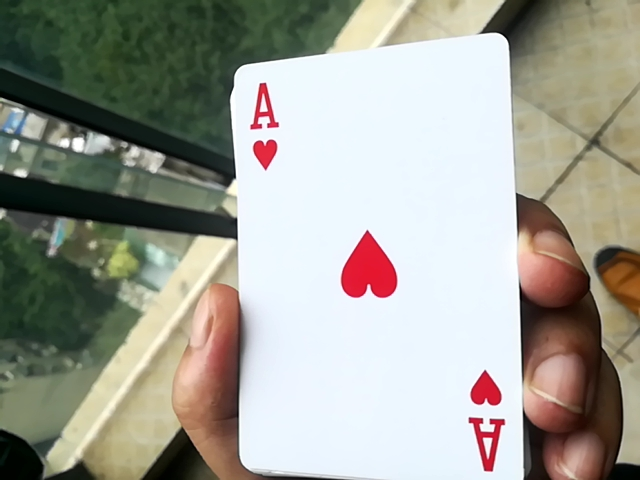hx a: (220, 44, 542, 480)
